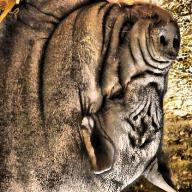boar: (0, 0, 181, 192)
